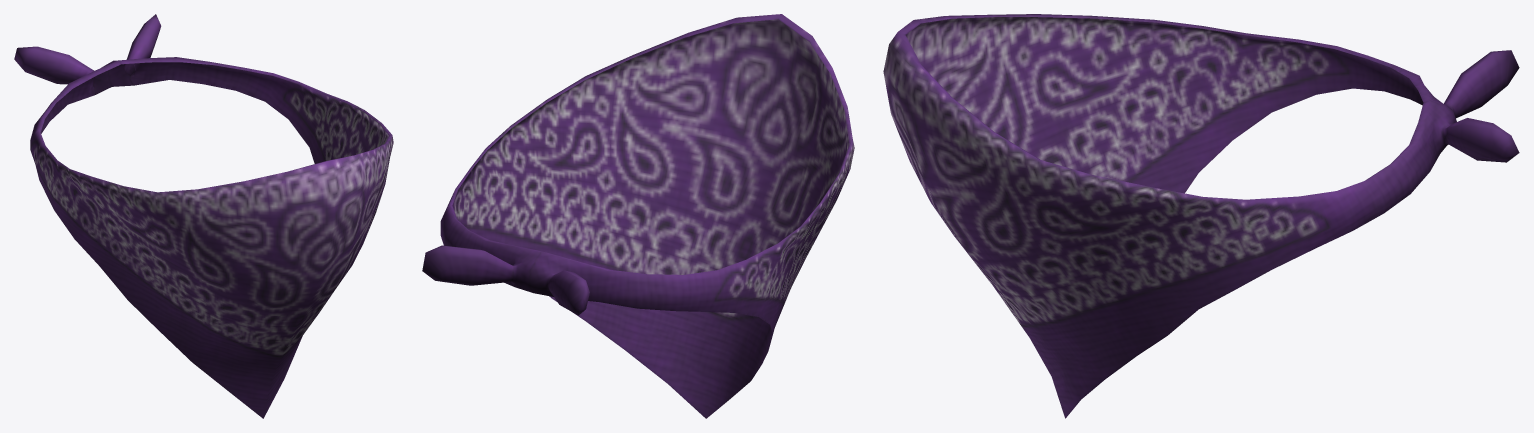
File: bandanaItem.fbx
3 renders of one model, left to right at view 1: azimuth 30°, elevation 25°; view 2: azimuth 150°, elevation 25°; view 3: azimuth 270°, elevation 25°, orthographic. The views are drawn at different scales.
Visible parts, largest first — view 1: Object_4; view 2: Object_4; view 3: Object_4.
Part boxes in pixels (bbox=[...]): Object_4: bbox=[14, 14, 393, 418]; Object_4: bbox=[422, 14, 854, 418]; Object_4: bbox=[883, 14, 1519, 418].
Bounding box in the file's own units: 71.14 × 75.15 × 112.
Materials: 1 (1 with a texture image).
